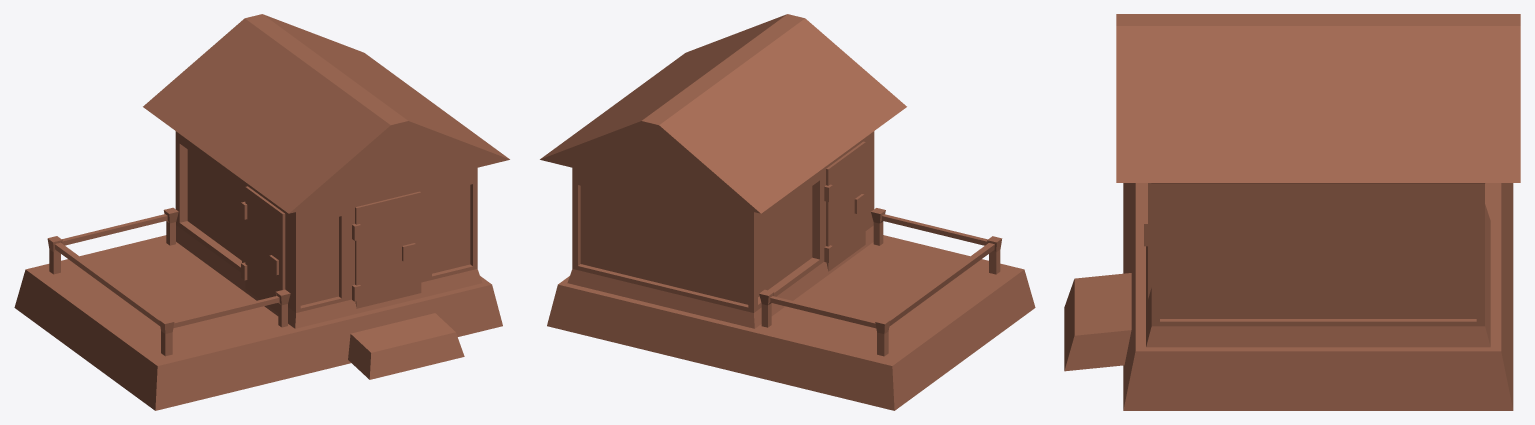
The model's file is Mesh_House.glb.
3 views of the same model, side by side, from view 1: azimuth 30°, elevation 25°; view 2: azimuth 150°, elevation 25°; view 3: azimuth 270°, elevation 25° (orthographic). The views are drawn at different scales.
Visible parts, largest first — view 1: Cube.093; view 2: Cube.093; view 3: Cube.093.
Part boxes in pixels (x1,y1,x2,y2): Cube.093: (14,14,509,410); Cube.093: (540,14,1035,410); Cube.093: (1064,14,1520,410).
Size of the model in its own units: 18.2 by 11.41 by 14.74.
